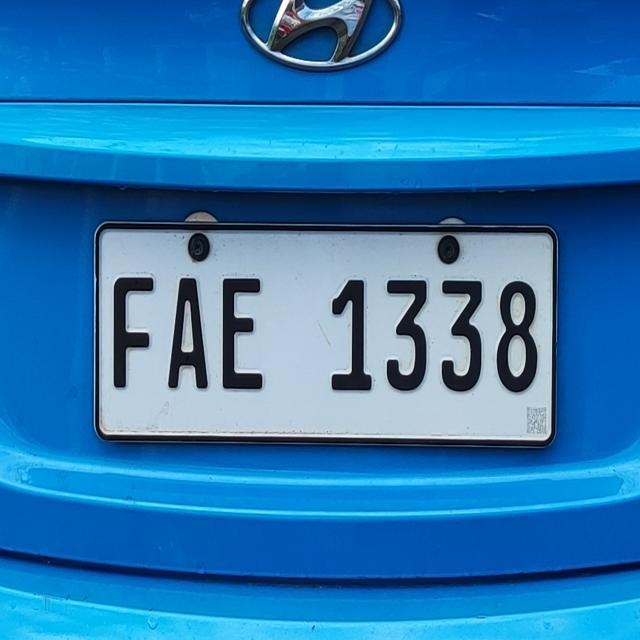LicensePlate: (79, 206, 572, 459)
